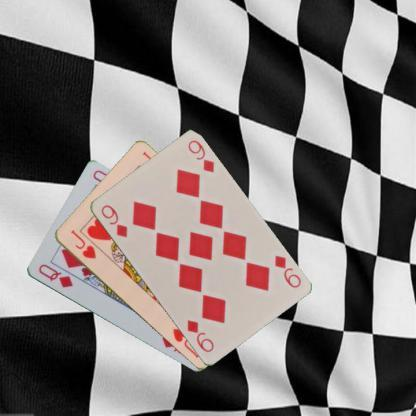9d: (97, 201, 128, 239), (272, 252, 302, 289)
Jh: (67, 227, 97, 260)
Qd: (35, 261, 74, 290)
